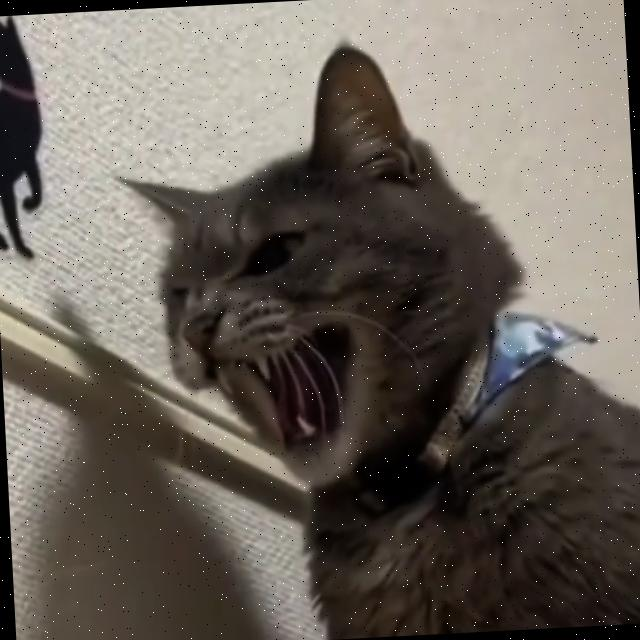Angry: (123, 213, 410, 520)
